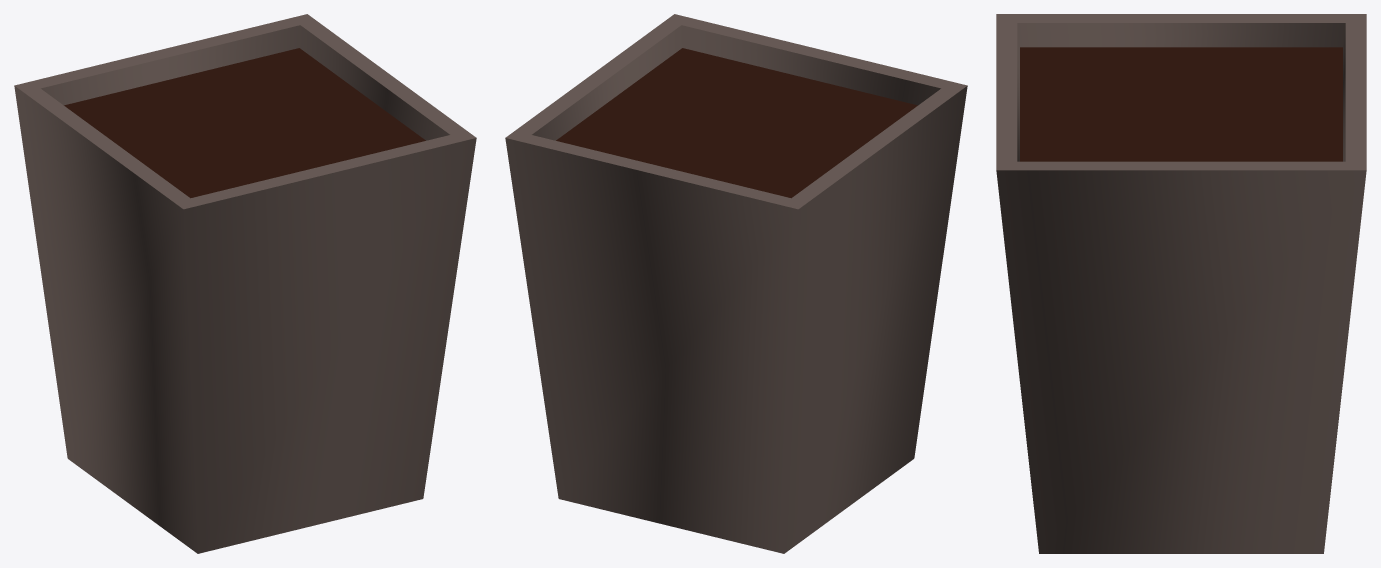
The model's file is FlowerPot.fbx.
3 views of the same model, side by side, from view 1: azimuth 30°, elevation 25°; view 2: azimuth 150°, elevation 25°; view 3: azimuth 270°, elevation 25° (orthographic). The views are drawn at different scales.
Visible parts, largest first — view 1: Pot; view 2: Pot; view 3: Pot.
Boxes of the visible parts, <box> form: Pot: <box>14,14,476,553</box>; Pot: <box>505,14,967,553</box>; Pot: <box>996,14,1366,553</box>.
Size of the model in its own units: 9.19 by 9.19 by 11.
